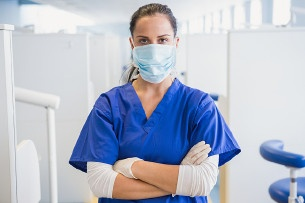Mask: (131, 31, 178, 78)
